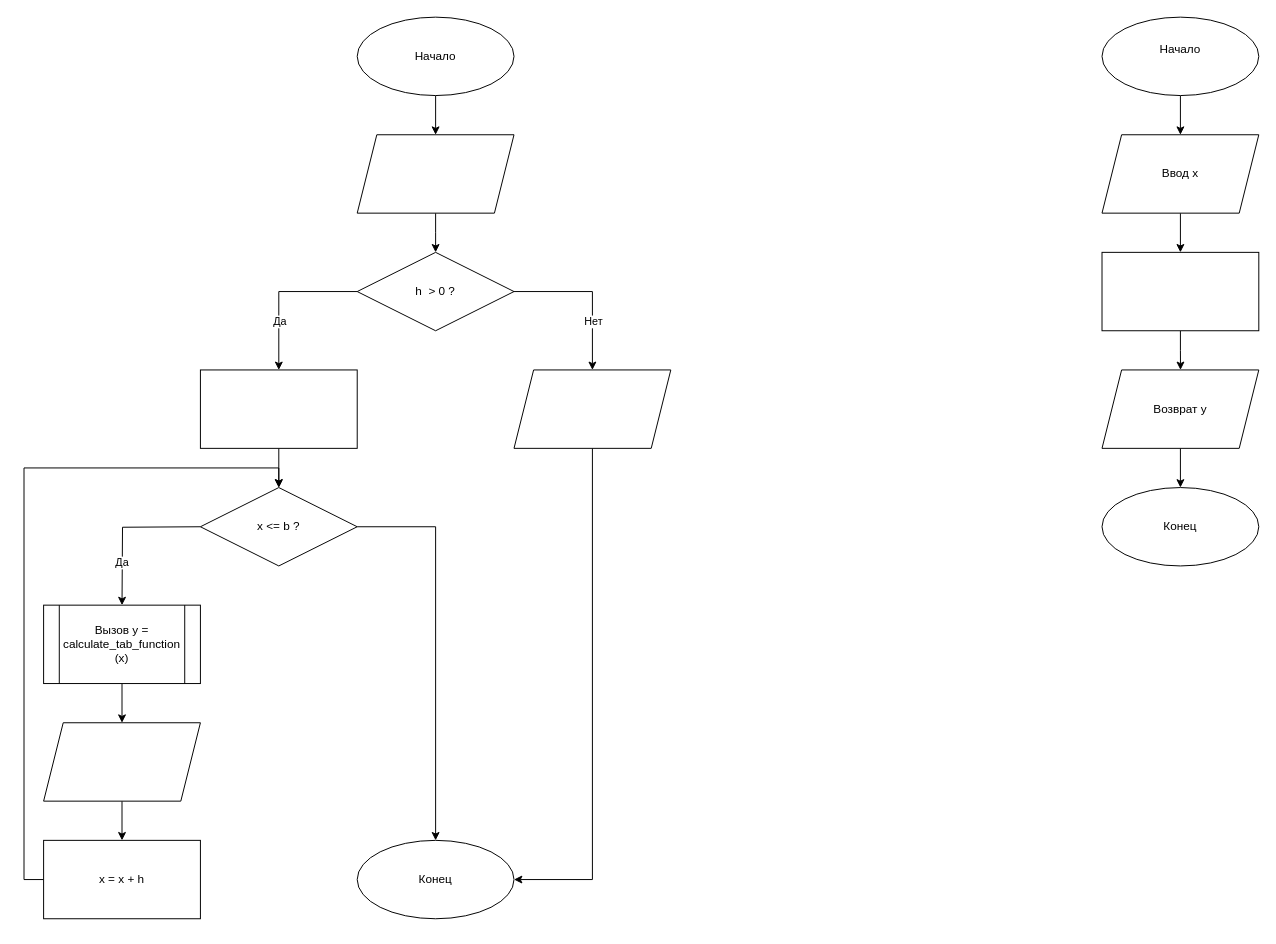
Some shapes in this 1276 by 944 pixel diagram are drawn without their labels. Here are the shapes that lost their labels. From the top down, the box of each, then its label:
(356, 134, 514, 213): Ввод a, b, h
(1101, 251, 1259, 331): y = x^3 + 3*x^2 - 3
(199, 369, 357, 448): x = a
(513, 369, 671, 448): Вывод: "Ошибка"
(43, 722, 200, 801): Вывод x, y
